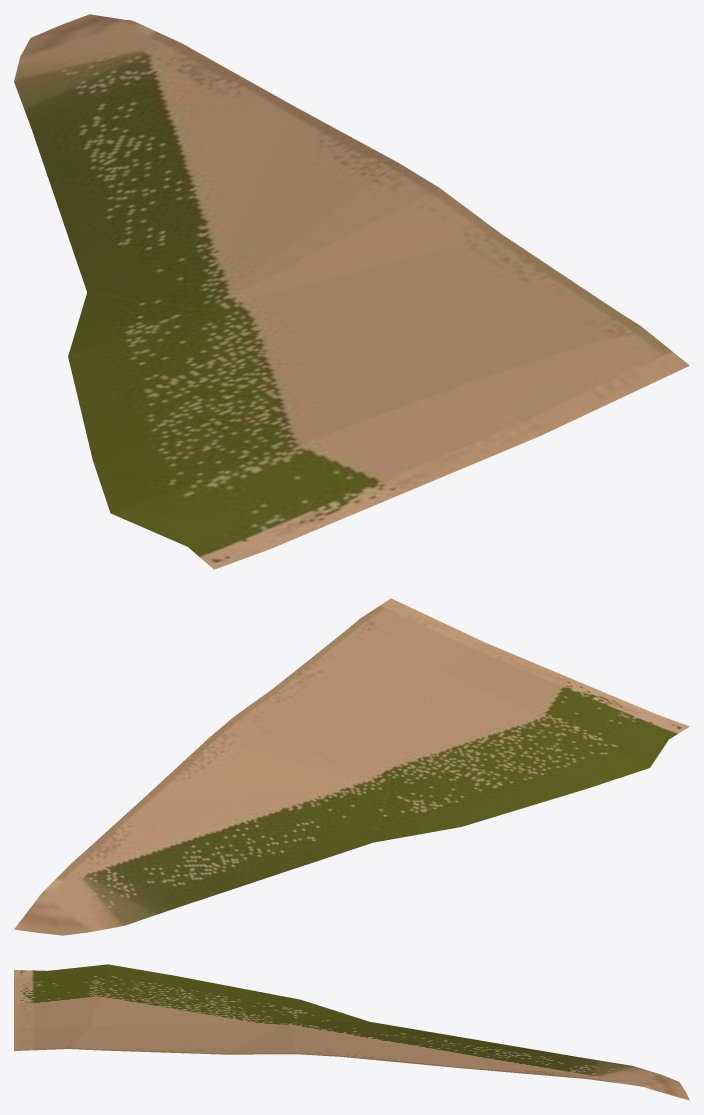
3 renders of one model, top to bottom at view 1: azimuth 30°, elevation 25°; view 2: azimuth 150°, elevation 25°; view 3: azimuth 270°, elevation 25°, orthographic. The views are drawn at different scales.
Bounding box in the file's own units: 0.5221 × 0.0922 × 1.09.
Materials: 1 (1 with a texture image).
